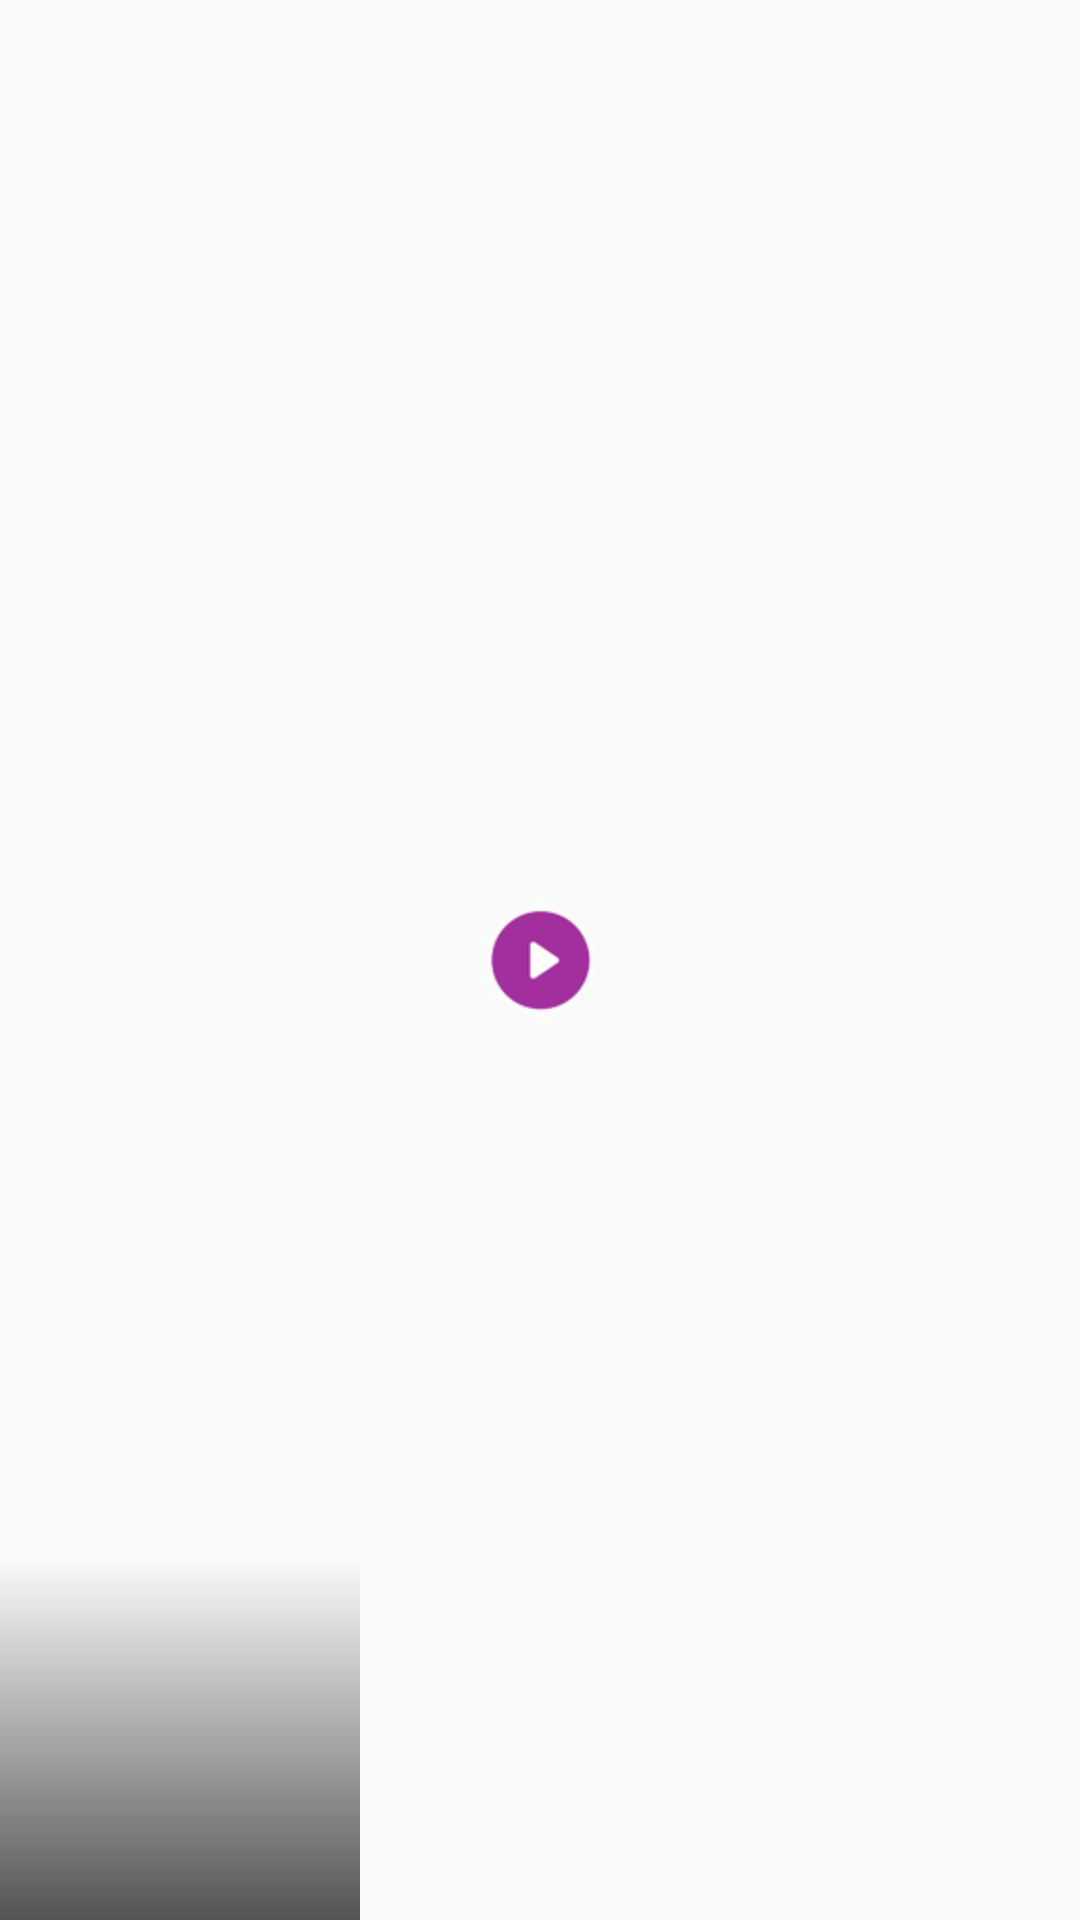

Where icons sit on this 1080px x 1920px app screen, as region(x1, y1, x2, y2):
play home: region(491, 911, 591, 1011)
